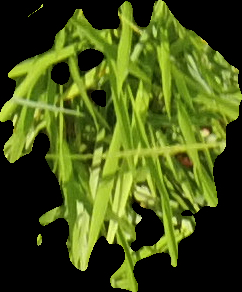grass: (1, 1, 241, 291)
